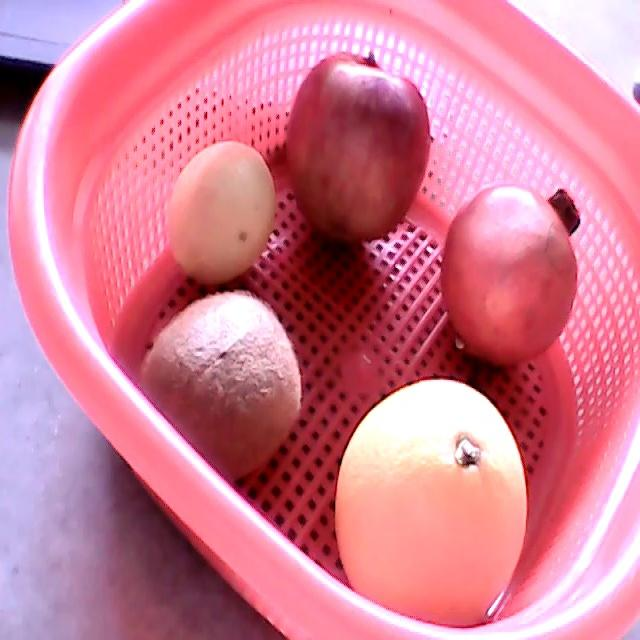apple: (287, 51, 433, 244)
kiwi: (136, 292, 302, 483)
lemon: (167, 141, 275, 284)
orange: (334, 378, 527, 627)
pomegranate: (440, 185, 581, 366)
